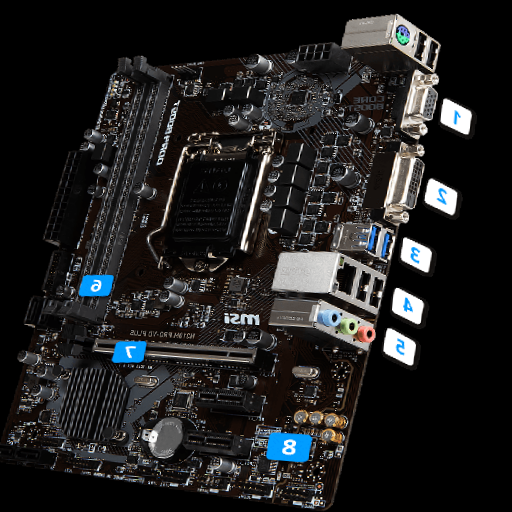CPU: (165, 127, 280, 273)
GPU: (74, 334, 270, 370)
MOTHERBOARD: (1, 40, 443, 509)
RAM: (44, 56, 173, 320)
